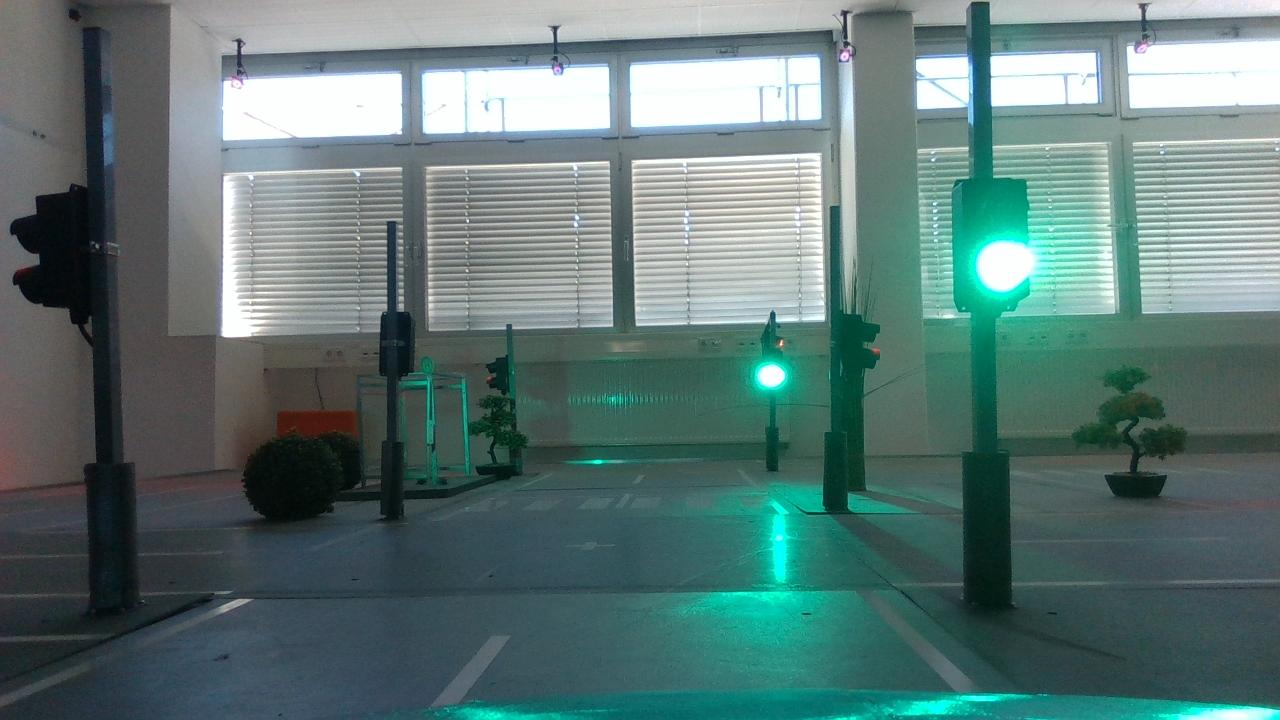traffic_light_green: (936, 168, 1051, 330)
